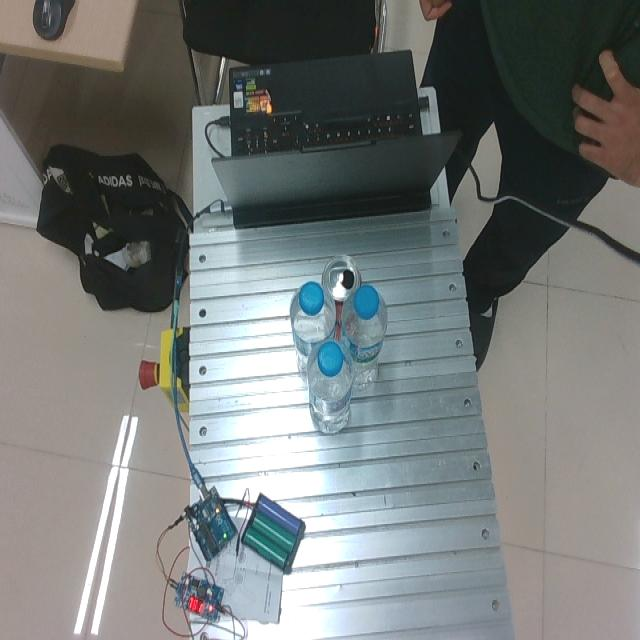coca: (322, 254, 362, 338)
lavie: (340, 287, 387, 389), (306, 339, 355, 432), (290, 282, 337, 378)
